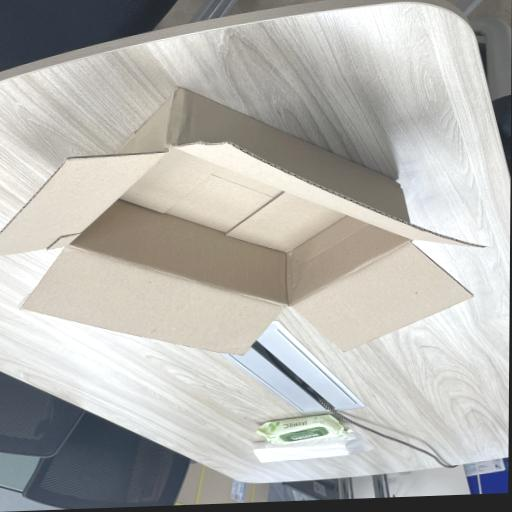box: (1, 87, 492, 357)
opened: (2, 140, 493, 357)
